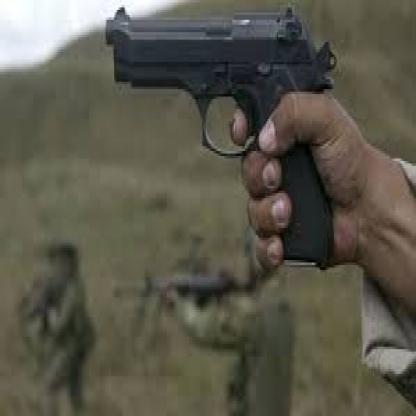Pistol: (98, 0, 337, 273)
